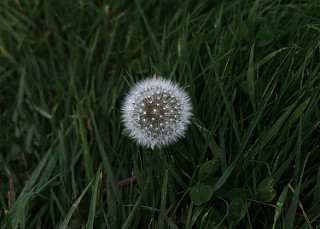clover: (226, 177, 277, 208), (189, 158, 221, 205)
dandelion white: (118, 75, 196, 151)
